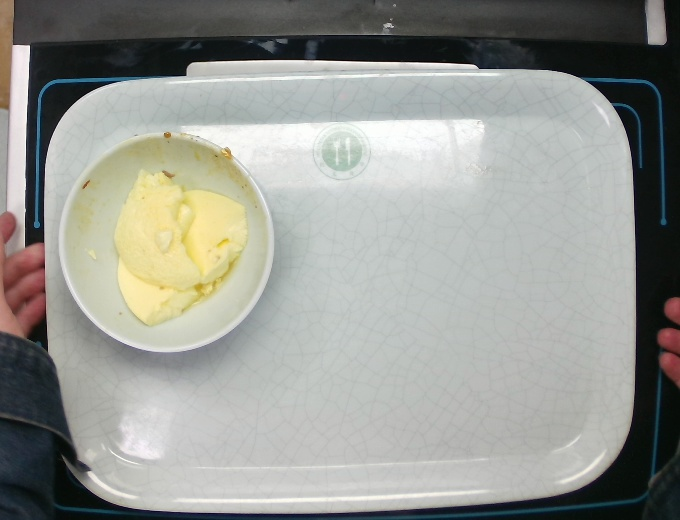JYsf-Fan_Wan: (56, 130, 276, 354)
